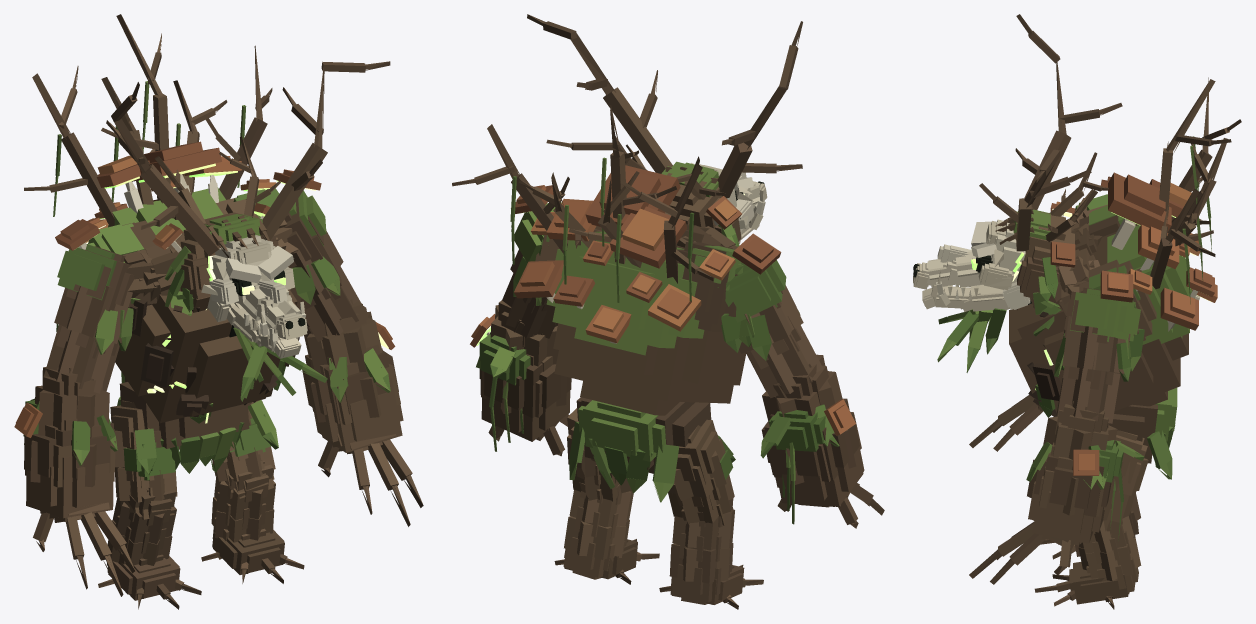
The picture shows the model from 3 angles, left to right: view 1: azimuth 30°, elevation 25°; view 2: azimuth 150°, elevation 25°; view 3: azimuth 270°, elevation 25°; orthographic projection. The views are drawn at different scales.
Parts seen in each view (by area): view 1: RotwoodBehemoth; view 2: RotwoodBehemoth; view 3: RotwoodBehemoth.
Boxes of the visible parts, x1=… form: RotwoodBehemoth: x1=14, y1=14, x2=423, y2=609; RotwoodBehemoth: x1=452, y1=14, x2=884, y2=609; RotwoodBehemoth: x1=913, y1=14, x2=1241, y2=609.
Bounding box in the file's own units: 1.38 × 1.97 × 1.15.
